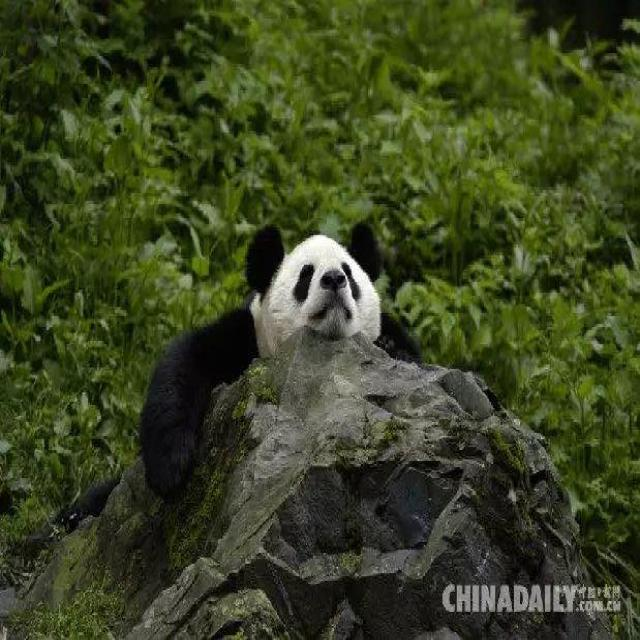panda: (134, 193, 463, 468)
